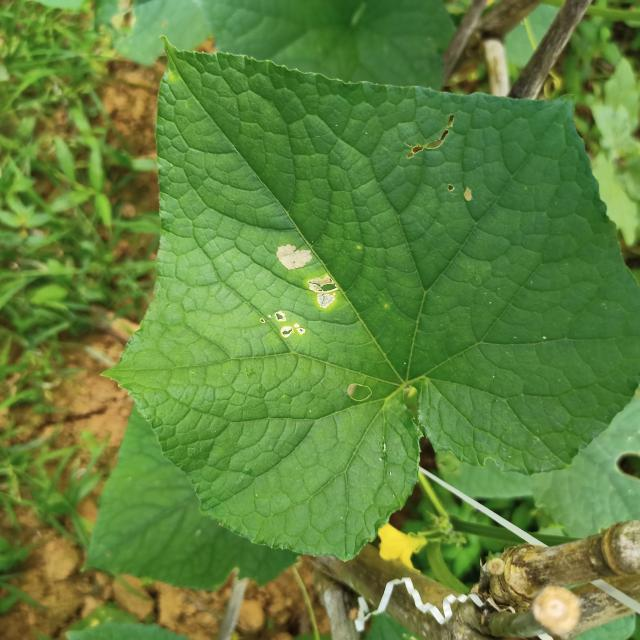disease_cucumber: (268, 241, 342, 346)
